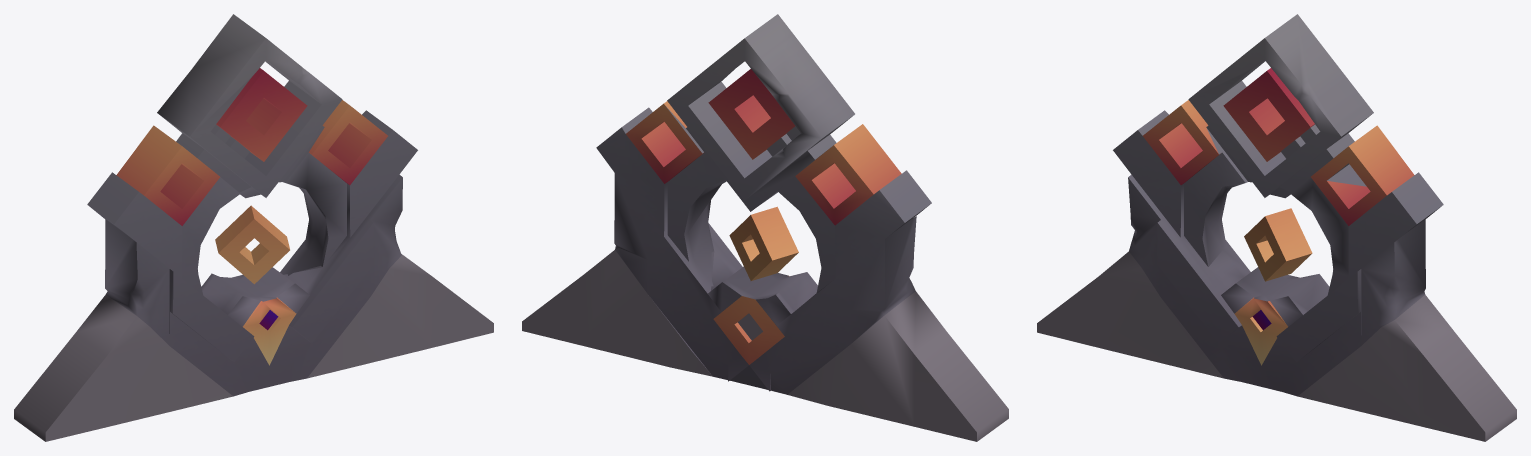
Rendered from monument.001.fbx.
The picture shows the model from 3 angles, left to right: view 1: azimuth 30°, elevation 25°; view 2: azimuth 150°, elevation 25°; view 3: azimuth 330°, elevation 25°; orthographic projection.
Parts seen in each view (by area): view 1: monument.001; view 2: monument.001; view 3: monument.001.
Part boxes in pixels (x1,y1,x2,y2): monument.001: (14,14,493,441); monument.001: (522,14,1008,441); monument.001: (1037,14,1516,441).
Size of the model in its own units: 560 by 414 by 86.65.
